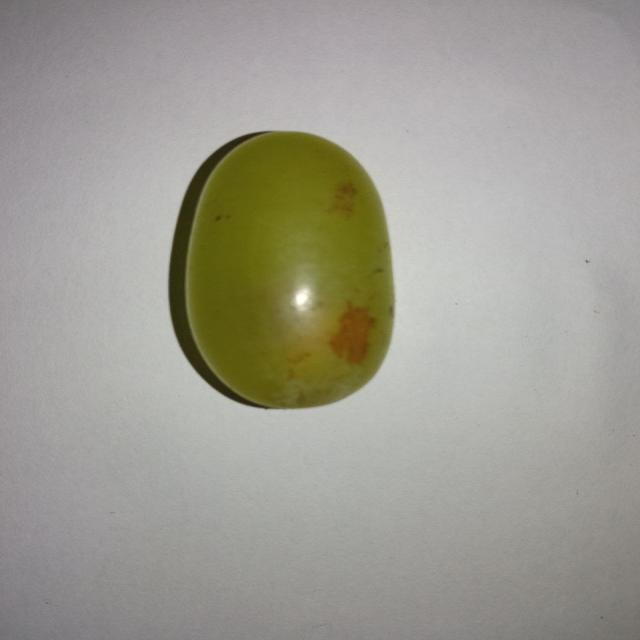fresh_grape: (175, 130, 395, 410)
